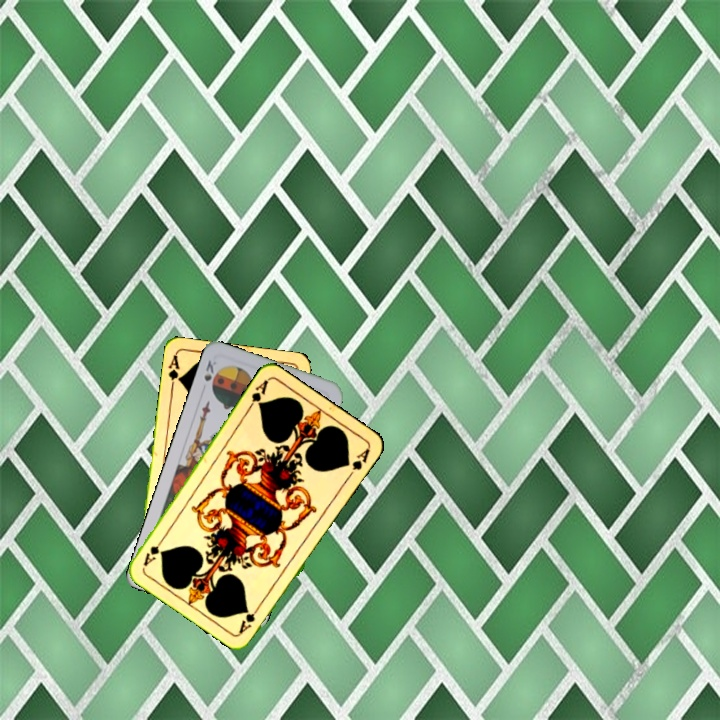GA: (235, 600, 264, 636), (243, 376, 271, 413), (164, 351, 184, 392)
SK: (200, 356, 219, 384)
